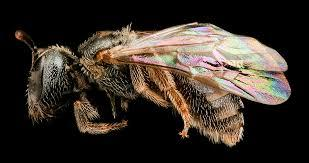Lasioglossum: (8, 11, 279, 146)
